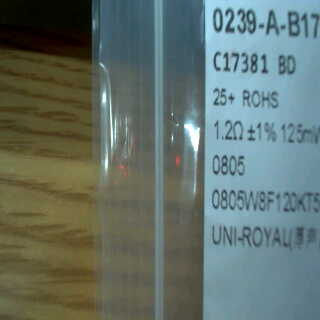1.2R: (211, 119, 247, 180)
